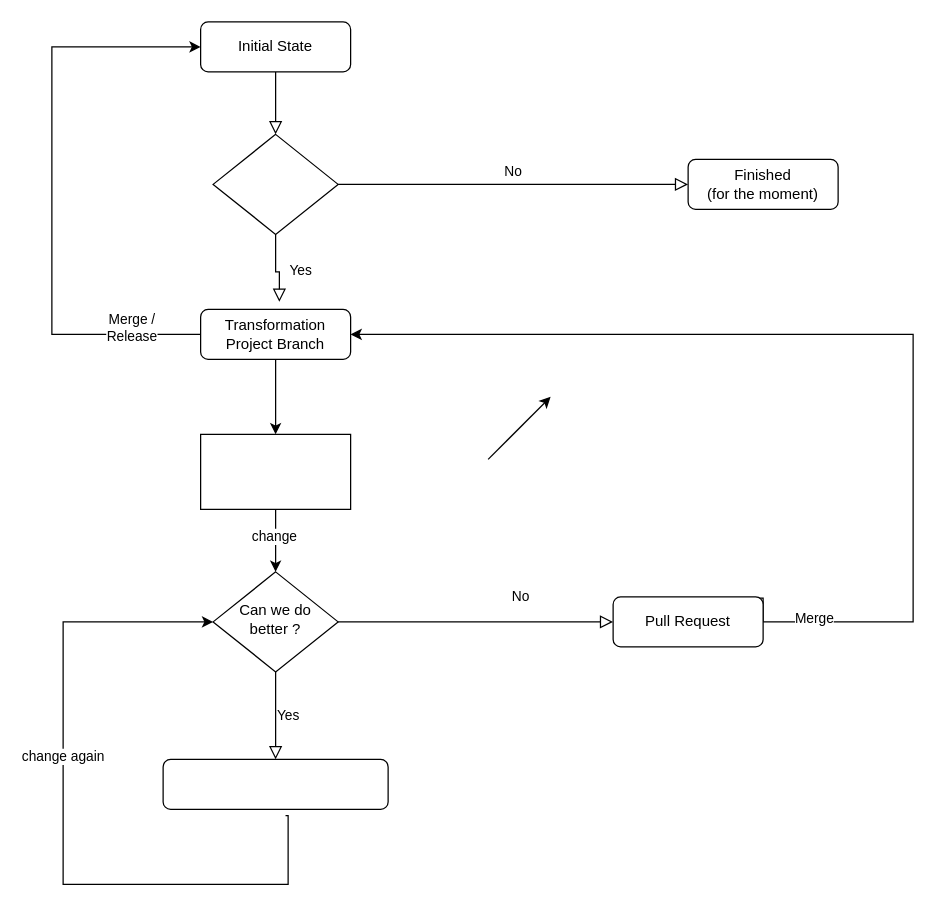
This 945x916 diagram has some shape labels left out. The shapes that lost their labels are listed below. From the top down, each one's centre as x and y in pixels, then its label:
At point 275,183: "Want to improve more ?".
At point 275,471: "Individual Improvement Branch".
At point 275,783: "Refactor".
